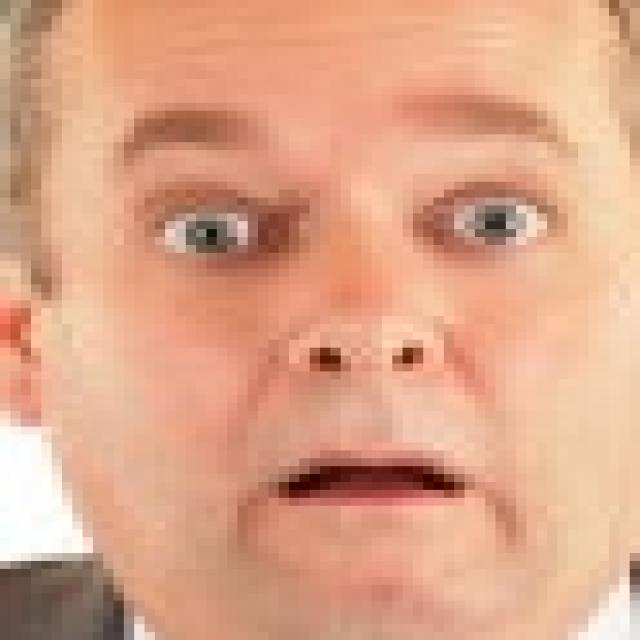Anxiety: (34, 13, 630, 632)
